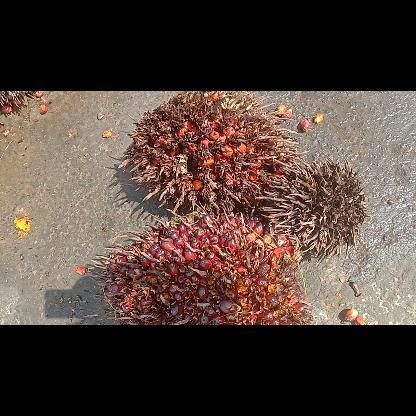Janjang kosong: (256, 151, 368, 257)
TBS masak: (92, 202, 312, 324)
Terlalu masak: (118, 91, 306, 216)
